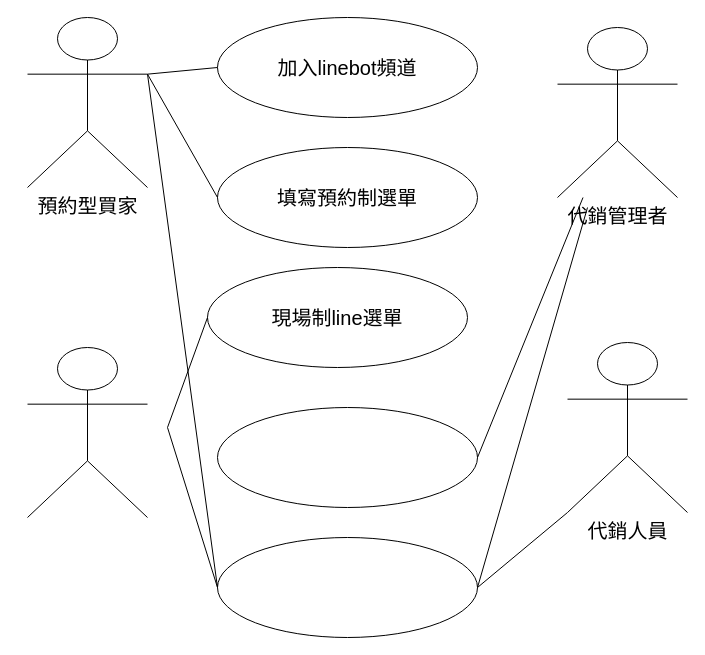
The diagram is 705 pixels wide and 655 high, and some of its shapes have lost their labels. The centre of each missing label's shape, as x and y in pixels:
"代銷人員安排" belongs at [347,587].
"即時參觀型買家" belongs at [87,432].
"後台審核" belongs at [347,457].
